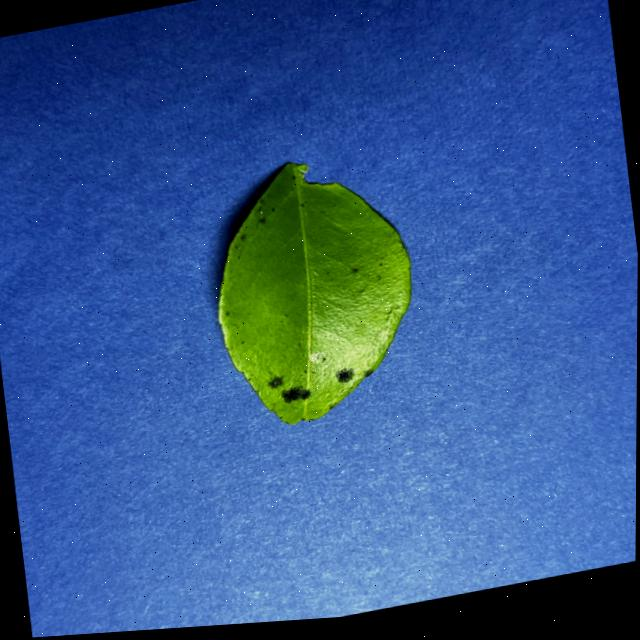sooty_mold: (218, 163, 411, 423)
